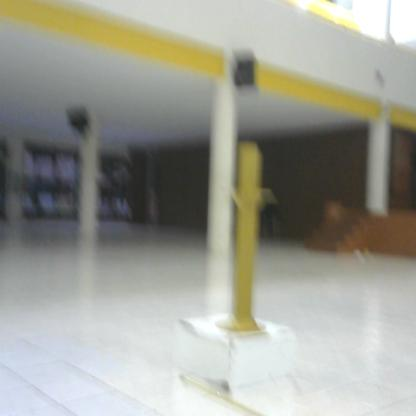pole: (217, 131, 283, 341)
